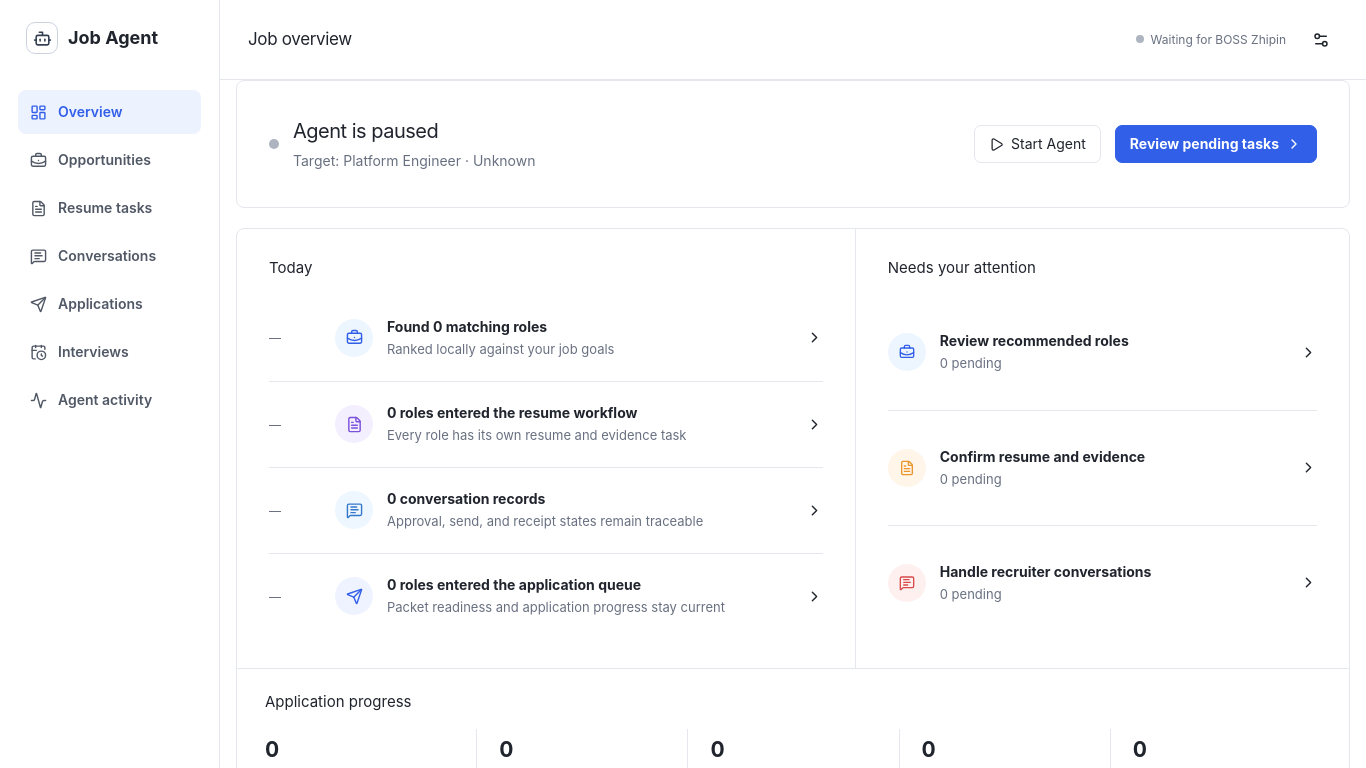
it: JobRadarApp › starts only after requirements are saved and the user explicitly starts it
Expected: the heading "Agent is paused" is shown, [293,119,438,143]
Click the button "Start Agent": (1038, 144) [974,125,1101,163]
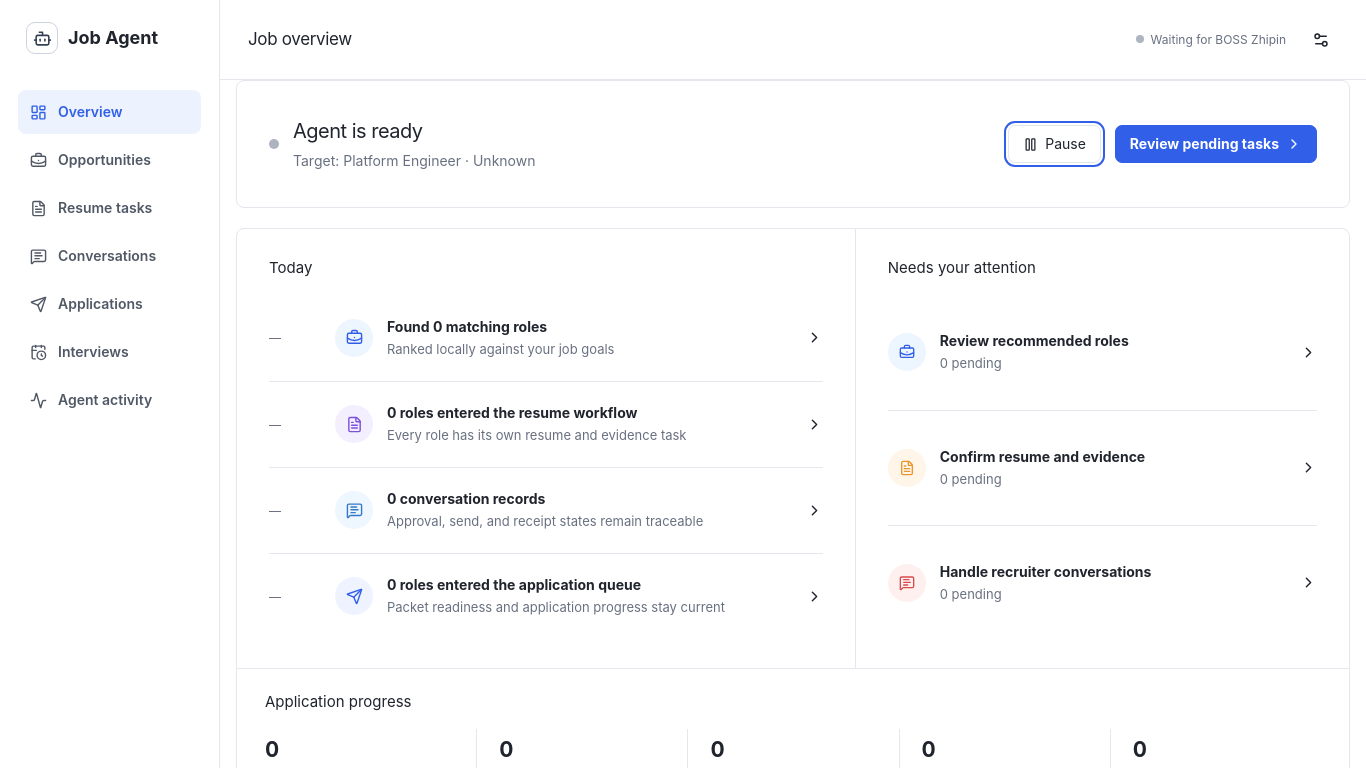
Expected: the heading "Agent is ready" is shown, [293,119,423,143]
